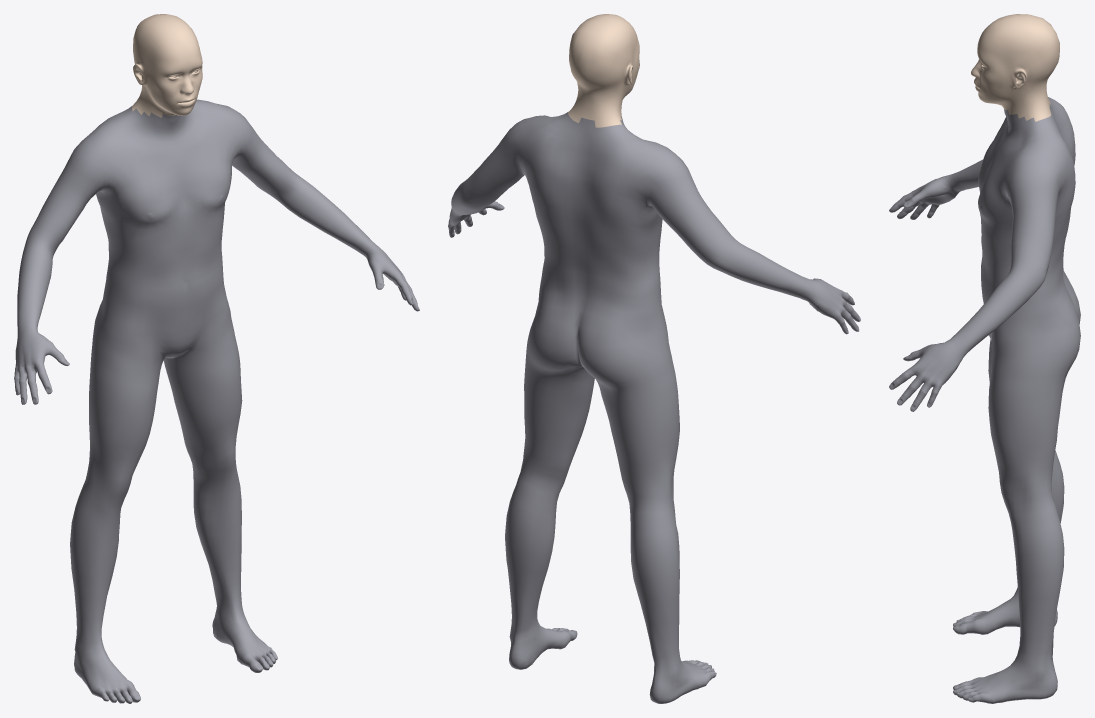
The model's file is npc_m_heavy.glb.
3 views of the same model, side by side, from view 1: azimuth 30°, elevation 25°; view 2: azimuth 150°, elevation 25°; view 3: azimuth 270°, elevation 25° (orthographic).
Visible parts, largest first — view 1: Human; view 2: Human; view 3: Human.
Part boxes in pixels (box(x1,y1,x2,y2)): Human: box(14, 14, 419, 703); Human: box(448, 14, 860, 703); Human: box(889, 14, 1080, 703).
Size of the model in its own units: 1.15 by 1.8 by 0.4846.
